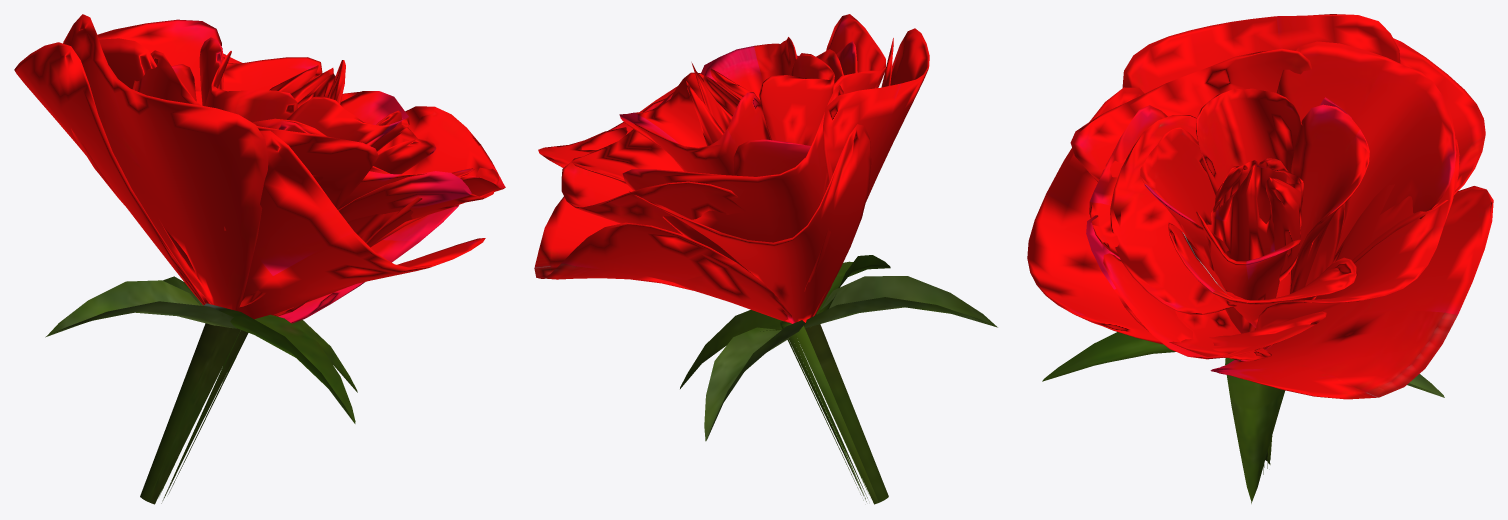
3 renders of one model, left to right at view 1: azimuth 30°, elevation 25°; view 2: azimuth 150°, elevation 25°; view 3: azimuth 270°, elevation 25°, orthographic.
Parts seen in each view (by area): view 1: 45742e6e; view 2: 45742e6e; view 3: 45742e6e.
Part boxes in pixels (x1,y1,x2,y2): 45742e6e: (14,14,505,504); 45742e6e: (534,14,997,504); 45742e6e: (1027,14,1493,503).
Size of the model in its own units: 0.0938 by 0.092 by 0.086.
Materials: 2 (2 with a texture image).
